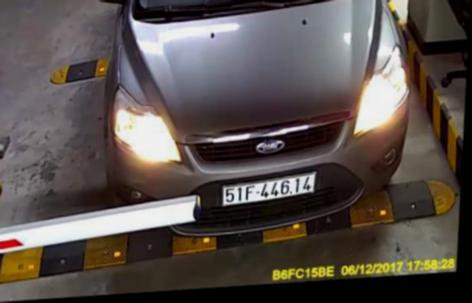License_Plate: (216, 172, 320, 207)
